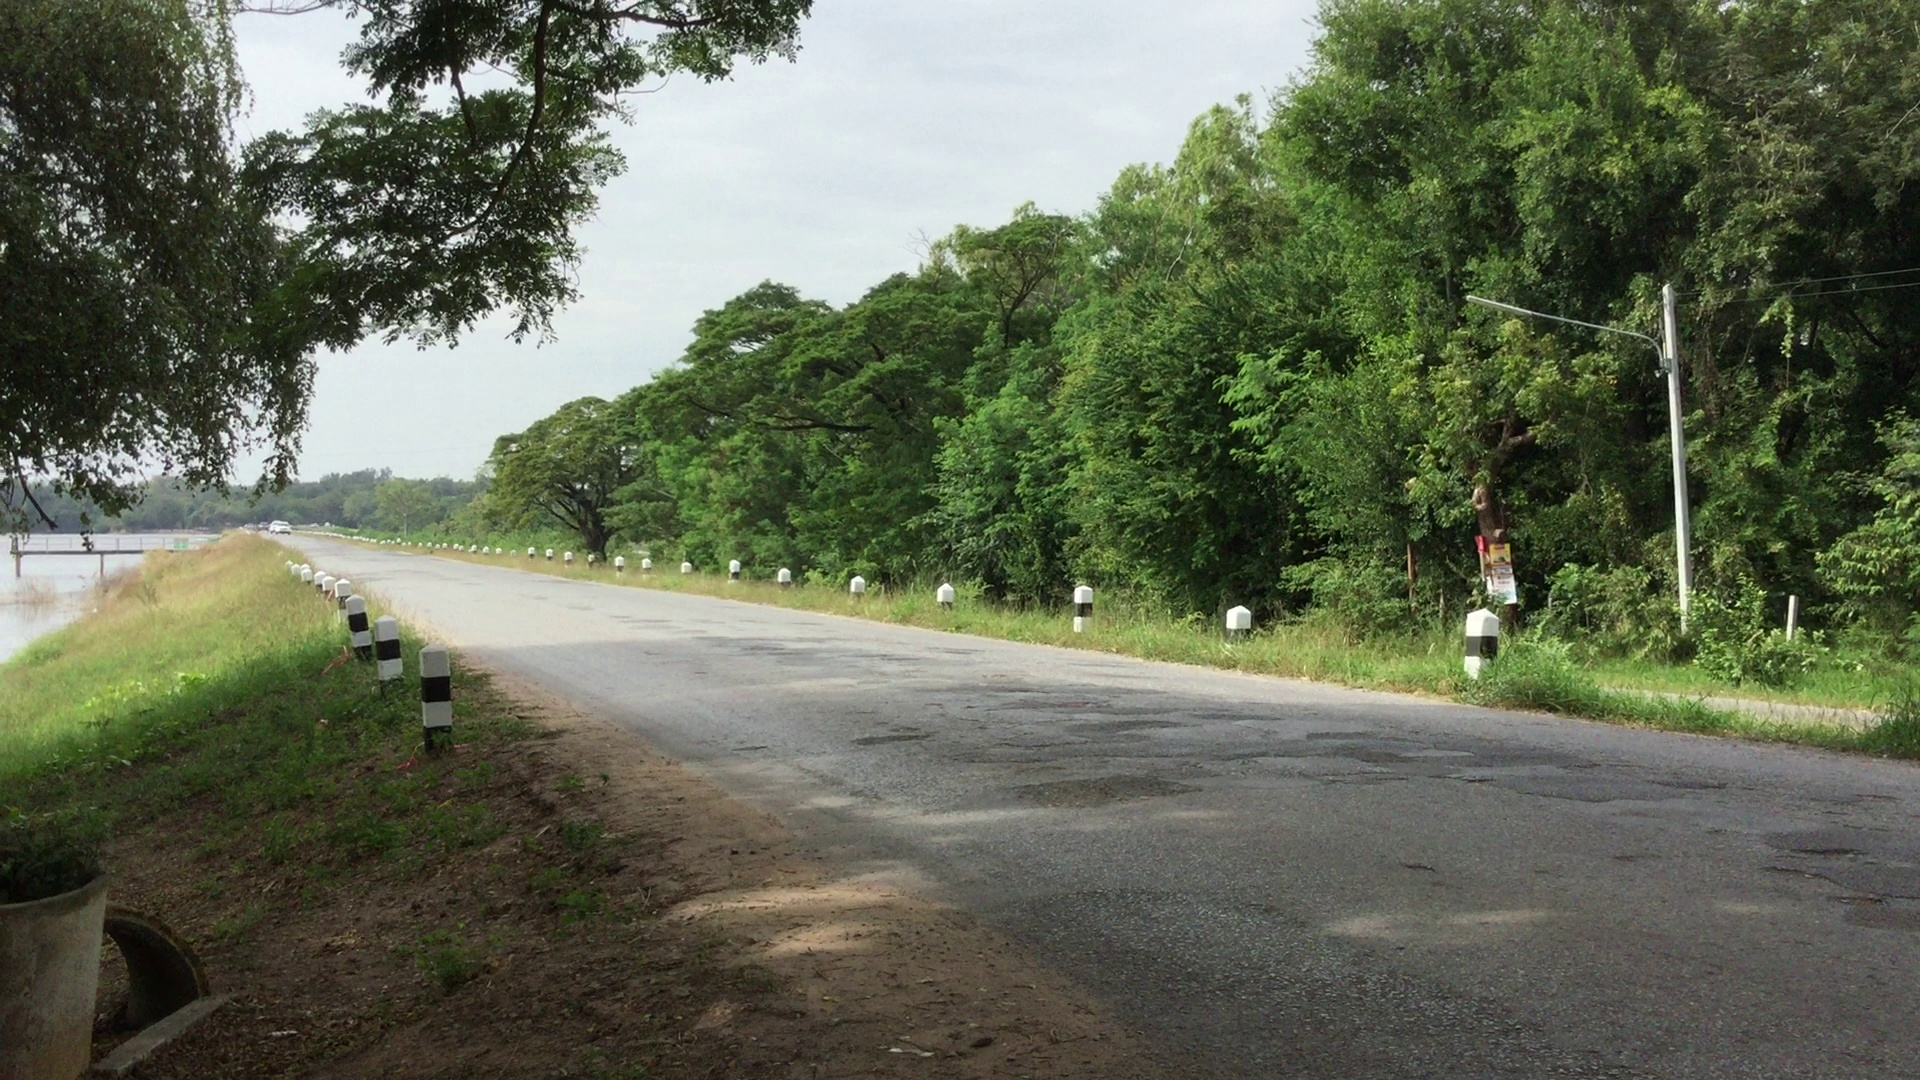post: (415, 636, 462, 757), (367, 609, 409, 695), (1461, 603, 1502, 688), (339, 589, 371, 666), (1065, 574, 1097, 632), (928, 572, 957, 624), (1226, 603, 1254, 647), (845, 570, 868, 599), (771, 562, 794, 591), (727, 556, 742, 582)
